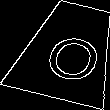O_N: (34, 21, 103, 82)
